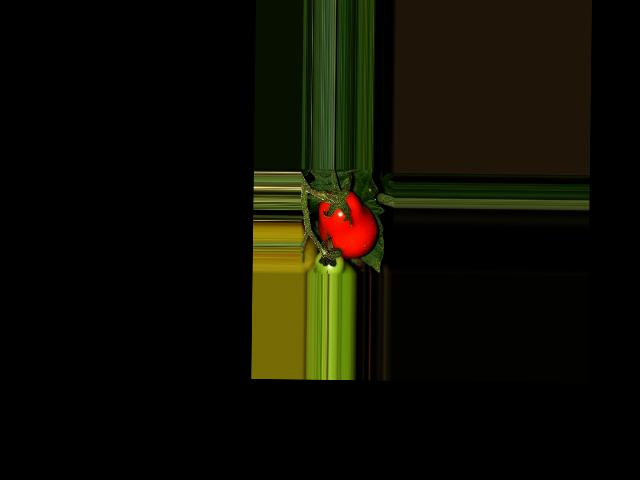tomato: (317, 189, 378, 258)
